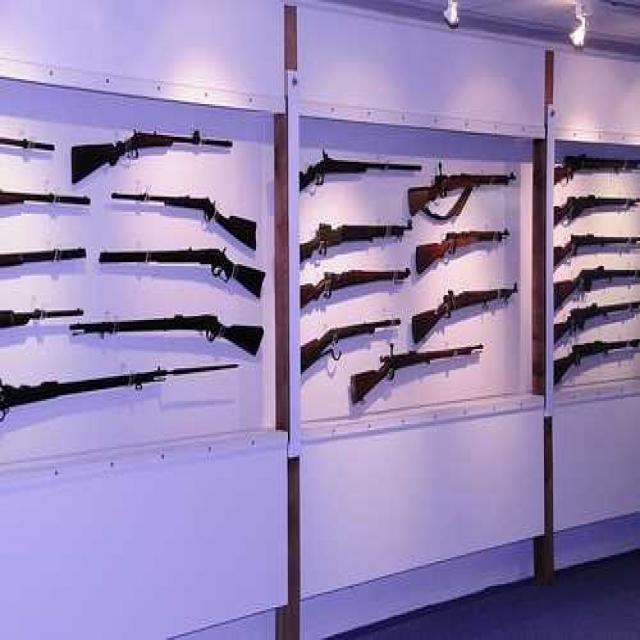weapon: (343, 328, 490, 422), (62, 121, 244, 193), (65, 304, 273, 364), (108, 178, 266, 252), (94, 239, 268, 303), (409, 268, 522, 359), (298, 302, 407, 378), (297, 210, 420, 274), (298, 144, 428, 202), (403, 164, 525, 224), (294, 256, 414, 314), (548, 328, 640, 396), (409, 222, 528, 274), (553, 290, 640, 338), (549, 148, 640, 189), (548, 188, 640, 228), (551, 267, 640, 308), (548, 231, 640, 268)
